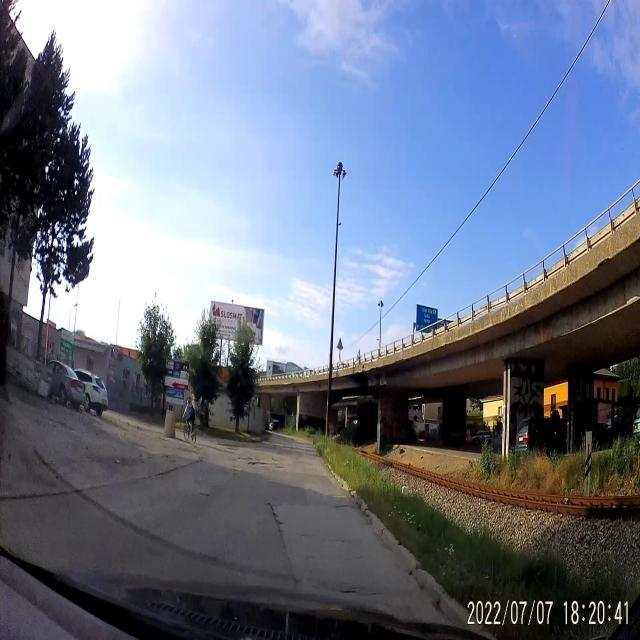Pothole: (266, 498, 287, 540), (338, 580, 368, 605), (334, 501, 351, 514), (198, 488, 212, 501), (236, 453, 255, 462), (246, 461, 267, 468), (227, 445, 240, 452), (272, 456, 282, 464), (274, 466, 286, 470)
